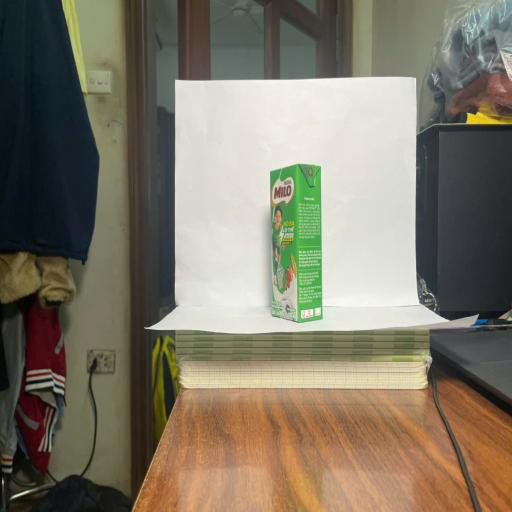milo: (270, 163, 323, 323)
